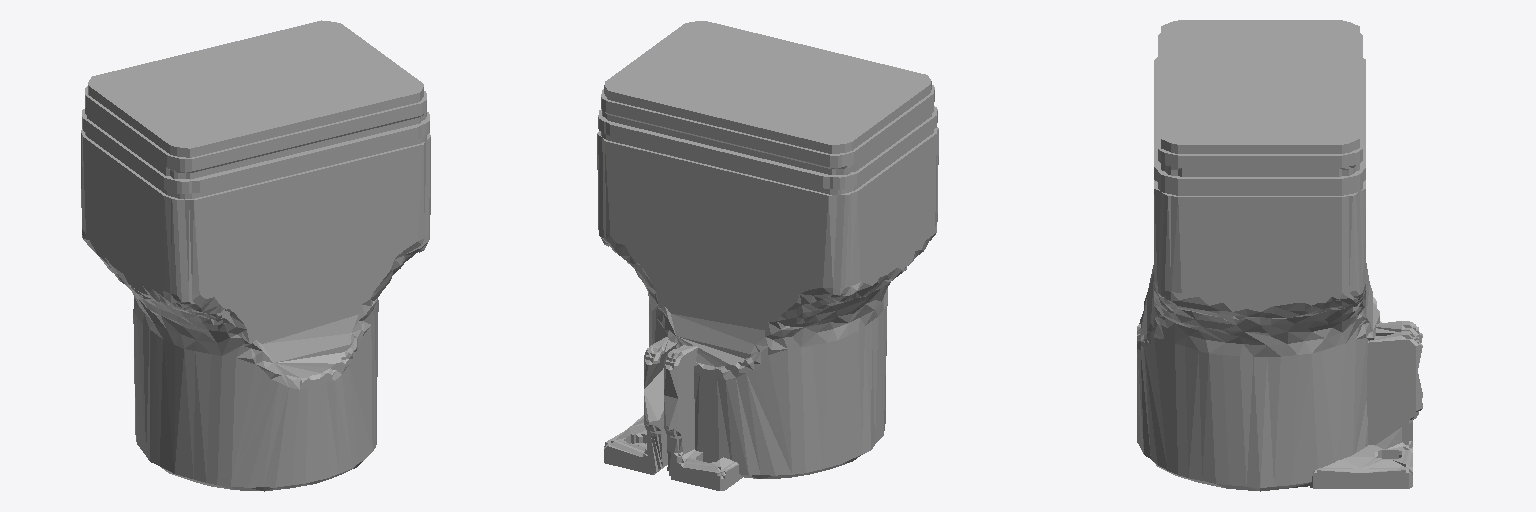
URDF robot description (iiwa14):
<?xml version="1.0" ?>
<!-- =================================================================================== -->
<!-- |    This document was autogenerated by xacro from urdf/iiwa14.urdf.xacro         | -->
<!-- |    EDITING THIS FILE BY HAND IS NOT RECOMMENDED                                 | -->
<!-- =================================================================================== -->
<robot name="iiwa14">
  <link name="link_0">
    <inertial>
      <origin rpy="0 0 0" xyz="-0.1 0 0.07"/>
      <mass value="5"/>
      <inertia ixx="0.05" ixy="0" ixz="0" iyy="0.06" iyz="0" izz="0.03"/>
    </inertial>
    <visual>
      <origin rpy="0 0 0" xyz="0 0 0"/>
      <geometry>
        <mesh filename="meshes/visual/link_0.stl"/>
      </geometry>
      <material name="Grey"/>
    </visual>
    <collision>
      <origin rpy="0 0 0" xyz="0 0 0"/>
      <geometry>
        <mesh filename="meshes/collision/link_0_s.stl"/>
      </geometry>
      <material name="Grey"/>
    </collision>
    <self_collision_checking>
      <origin rpy="0 0 0" xyz="0 0 0"/>
      <geometry>
        <capsule length="0.25" radius="0.15"/>
      </geometry>
    </self_collision_checking>
  </link>
  <!-- joint between link_0 and link_1 -->
  <joint name="joint_0" type="revolute">
    <parent link="link_0"/>
    <child link="link_1"/>
    <origin rpy="0 0 0" xyz="0 0 0.17"/>
    <axis xyz="0 0 1"/>
    <limit effort="300" lower="-2.9670597283903604" upper="2.9670597283903604" velocity="10"/>
    <safety_controller k_position="100" k_velocity="2" soft_lower_limit="-2.9321531433504737" soft_upper_limit="2.9321531433504737"/>
    <dynamics damping="0.0" friction="0.0"/>
  </joint>
  <link name="link_1">
    <inertial>
      <origin rpy="0 0 0" xyz="0 -0.03 0.12"/>
      <mass value="4"/>
      <inertia ixx="0.1" ixy="0" ixz="0" iyy="0.09" iyz="0" izz="0.02"/>
    </inertial>
    <visual>
      <origin rpy="0 0 0" xyz="0 0 0"/>
      <geometry>
        <mesh filename="meshes/visual/link_1.stl"/>
      </geometry>
      <material name="Orange"/>
    </visual>
    <collision>
      <origin rpy="0 0 0" xyz="0 0 0"/>
      <geometry>
        <mesh filename="meshes/collision/link_1_s.stl"/>
      </geometry>
      <material name="Orange"/>
    </collision>
  </link>
  <!-- joint between link_1 and link_2 -->
  <joint name="joint_1" type="revolute">
    <parent link="link_1"/>
    <child link="link_2"/>
    <origin rpy="1.5707963267948966   0 3.141592653589793" xyz="0 0 0.2025"/>
    <axis xyz="0 0 1"/>
    <limit effort="300" lower="-2.0943951023931953" upper="2.0943951023931953" velocity="10"/>
    <safety_controller k_position="100" k_velocity="2" soft_lower_limit="-2.0594885173533086" soft_upper_limit="2.0594885173533086"/>
    <dynamics damping="0.0" friction="0.0"/>
  </joint>
  <link name="link_2">
    <inertial>
      <origin rpy="0 0 0" xyz="0.0003 0.059 0.042"/>
      <mass value="4"/>
      <inertia ixx="0.05" ixy="0" ixz="0" iyy="0.018" iyz="0" izz="0.044"/>
    </inertial>
    <visual>
      <origin rpy="0 0 0" xyz="0 0 0"/>
      <geometry>
        <mesh filename="meshes/visual/link_2.stl"/>
      </geometry>
      <material name="Orange"/>
    </visual>
    <collision>
      <origin rpy="0 0 0" xyz="0 0 0"/>
      <geometry>
        <mesh filename="meshes/collision/link_2_s.stl"/>
      </geometry>
      <material name="Orange"/>
    </collision>
  </link>
  <!-- joint between link_2 and link_3 -->
  <joint name="joint_2" type="revolute">
    <parent link="link_2"/>
    <child link="link_3"/>
    <origin rpy="1.5707963267948966 0 3.141592653589793" xyz="0 0.2045 0"/>
    <axis xyz="0 0 1"/>
    <limit effort="300" lower="-2.9670597283903604" upper="2.9670597283903604" velocity="10"/>
    <safety_controller k_position="100" k_velocity="2" soft_lower_limit="-2.9321531433504737" soft_upper_limit="2.9321531433504737"/>
    <dynamics damping="0.0" friction="0.0"/>
  </joint>
  <link name="link_3">
    <inertial>
      <origin rpy="0 0 0" xyz="0 0.03 0.13"/>
      <mass value="3"/>
      <inertia ixx="0.08" ixy="0" ixz="0" iyy="0.075" iyz="0" izz="0.01"/>
    </inertial>
    <visual>
      <origin rpy="0 0 0" xyz="0 0 0"/>
      <geometry>
        <mesh filename="meshes/visual/link_3.stl"/>
      </geometry>
      <material name="Orange"/>
    </visual>
    <collision>
      <origin rpy="0 0 0" xyz="0 0 0"/>
      <geometry>
        <mesh filename="meshes/collision/link_3_s.stl"/>
      </geometry>
      <material name="Orange"/>
    </collision>
  </link>
  <!-- joint between link_3 and link_4 -->
  <joint name="joint_3" type="revolute">
    <parent link="link_3"/>
    <child link="link_4"/>
    <origin rpy="1.5707963267948966 0 0" xyz="0 0 0.2155"/>
    <axis xyz="0 0 1"/>
    <limit effort="300" lower="-2.0943951023931953" upper="2.0943951023931953" velocity="10"/>
    <safety_controller k_position="100" k_velocity="2" soft_lower_limit="-2.0594885173533086" soft_upper_limit="2.0594885173533086"/>
    <dynamics damping="0.0" friction="0.0"/>
  </joint>
  <link name="link_4">
    <inertial>
      <origin rpy="0 0 0" xyz="0 0.067 0.034"/>
      <mass value="2.7"/>
      <inertia ixx="0.03" ixy="0" ixz="0" iyy="0.01" iyz="0" izz="0.029"/>
    </inertial>
    <visual>
      <origin rpy="0 0 0" xyz="0 0 0"/>
      <geometry>
        <mesh filename="meshes/visual/link_4.stl"/>
      </geometry>
      <material name="Orange"/>
    </visual>
    <collision>
      <origin rpy="0 0 0" xyz="0 0 0"/>
      <geometry>
        <mesh filename="meshes/collision/link_4_s.stl"/>
      </geometry>
      <material name="Orange"/>
    </collision>
  </link>
  <!-- joint between link_4 and link_5 -->
  <joint name="joint_4" type="revolute">
    <parent link="link_4"/>
    <child link="link_5"/>
    <origin rpy="-1.5707963267948966 3.141592653589793 0" xyz="0 0.1845 0"/>
    <axis xyz="0 0 1"/>
    <limit effort="300" lower="-2.9670597283903604" upper="2.9670597283903604" velocity="10"/>
    <safety_controller k_position="100" k_velocity="2" soft_lower_limit="-2.9321531433504737" soft_upper_limit="2.9321531433504737"/>
    <dynamics damping="0.0" friction="0.0"/>
  </joint>
  <link name="link_5">
    <inertial>
      <origin rpy="0 0 0" xyz="0.0001 0.021 0.076"/>
      <mass value="1.7"/>
      <inertia ixx="0.02" ixy="0" ixz="0" iyy="0.018" iyz="0" izz="0.005"/>
    </inertial>
    <visual>
      <origin rpy="0 0 0" xyz="0 0 0"/>
      <geometry>
        <mesh filename="meshes/visual/link_5.stl"/>
      </geometry>
      <material name="Orange"/>
    </visual>
    <collision>
      <origin rpy="0 0 0" xyz="0 0 0"/>
      <geometry>
        <mesh filename="meshes/collision/link_5_s.stl"/>
      </geometry>
      <material name="Orange"/>
    </collision>
  </link>
  <!-- joint between link_5 and link_6 -->
  <joint name="joint_5" type="revolute">
    <parent link="link_5"/>
    <child link="link_6"/>
    <origin rpy="1.5707963267948966 0 0" xyz="0 0 0.2155"/>
    <axis xyz="0 0 1"/>
    <limit effort="300" lower="-2.0943951023931953" upper="2.0943951023931953" velocity="10"/>
    <safety_controller k_position="100" k_velocity="2" soft_lower_limit="-2.0594885173533086" soft_upper_limit="2.0594885173533086"/>
    <dynamics damping="0.0" friction="0.0"/>
  </joint>
  <link name="link_6">
    <inertial>
      <origin rpy="0 0 0" xyz="0 0.0006 0.0004"/>
      <mass value="1.8"/>
      <inertia ixx="0.025" ixy="0" ixz="0" iyy="0.0136" iyz="0" izz="0.0247"/>
    </inertial>
    <visual>
      <origin rpy="0 0 0" xyz="0 0 0"/>
      <geometry>
        <mesh filename="meshes/visual/link_6.stl"/>
      </geometry>
      <material name="Orange"/>
    </visual>
    <collision>
      <origin rpy="0 0 0" xyz="0 0 0"/>
      <geometry>
        <mesh filename="meshes/collision/link_6_s.stl"/>
      </geometry>
      <material name="Orange"/>
    </collision>
  </link>
  <!-- joint between link_6 and link_7 -->
  <joint name="joint_6" type="revolute">
    <parent link="link_6"/>
    <child link="link_7"/>
    <origin rpy="-1.5707963267948966 3.141592653589793 0" xyz="0 0.081 0"/>
    <axis xyz="0 0 1"/>
    <limit effort="300" lower="-3.0543261909900763" upper="3.0543261909900763" velocity="10"/>
    <safety_controller k_position="100" k_velocity="2" soft_lower_limit="-3.01941960595019" soft_upper_limit="3.01941960595019"/>
    <dynamics damping="0.0" friction="0.0"/>
  </joint>
  <link name="link_7">
    <inertial>
      <origin rpy="0 0 0" xyz="0 0 0.02"/>
      <mass value="0.42857142857142855"/>
      <inertia ixx="0.01" ixy="0" ixz="0" iyy="0.01" iyz="0" izz="0.01"/>
    </inertial>
    <visual>
      <origin rpy="0 0 0" xyz="0 0 0"/>
      <geometry>
        <mesh filename="meshes/visual/link_7.stl"/>
      </geometry>
      <material name="Grey"/>
    </visual>
    <collision>
      <origin rpy="0 0 0" xyz="0 0 0"/>
      <geometry>
        <mesh filename="meshes/collision/link_7_s.stl"/>
      </geometry>
      <material name="Grey"/>
    </collision>
  </link>
  <joint name="joint_ee" type="fixed">
    <parent link="link_7"/>
    <child link="gripper_base_link"/>
    <origin rpy="0 0 0" xyz="0 0 0.045"/>
  </joint>

  <material name="silver">
    <color rgba="0.700 0.700 0.700 1.000"/>
  </material>
  <link name="gripper_base_link">
    <inertial>
      <origin rpy="0 0 0" xyz="-4.898915958379213e-05 2.84756960271082e-06 0.06811082379774974"/>
      <mass value="1.2646523179240972"/>
      <inertia ixx="0.001504" ixy="-0.0" ixz="-3e-06" iyy="0.001812" iyz="0.0" izz="0.001053"/>
    </inertial>
    <visual>
      <origin rpy="0 0 0" xyz="0 0 0"/>
      <geometry>
        <mesh filename="meshes/gripper_base_link.stl"/>
      </geometry>
      <material name="silver"/>
    </visual>
    <collision>
      <origin rpy="0 0 0" xyz="0 0 0"/>
      <geometry>
        <mesh filename="meshes/gripper_base_link.stl"/>
      </geometry>
    </collision>
  </link>
  <link name="right_finger_link">
    <inertial>
      <origin rpy="0 0 0" xyz="0.017874296677847158 0.02949104051991925 0.01523421548622829"/>
      <mass value="0.023219383355922288"/>
      <inertia ixx="6e-06" ixy="-0.0" ixz="1e-06" iyy="5e-06" iyz="-0.0" izz="2e-06"/>
    </inertial>
    <visual>
      <origin rpy="0 0 0" xyz="0.054361 0.029494 -0.12005"/>
      <geometry>
        <mesh filename="meshes/right_finger_link.stl"/>
      </geometry>
      <material name="silver"/>
    </visual>
    <collision name="right_finger_collision">
      <origin rpy="0 0 0" xyz="0.054361 0.029494 -0.12005"/>
      <geometry>
        <mesh filename="meshes/right_finger_link.stl"/>
      </geometry>
    </collision>
  </link>
  <link name="left_finger_link">
    <inertial>
      <origin rpy="0 0 0" xyz="0.004247703322119739 0.029496959480080673 0.015234215486237948"/>
      <mass value="0.023219383355922288"/>
      <inertia ixx="6e-06" ixy="-0.0" ixz="-1e-06" iyy="5e-06" iyz="0.0" izz="2e-06"/>
    </inertial>
    <visual>
      <origin rpy="0 0 0" xyz="-0.032239 0.029494 -0.12005"/>
      <geometry>
        <mesh filename="meshes/left_finger_link.stl"/>
      </geometry>
      <material name="silver"/>
    </visual>
    <collision name="left_finger_collision">
      <origin rpy="0 0 0" xyz="-0.032239 0.029494 -0.12005"/>
      <geometry>
        <mesh filename="meshes/left_finger_link.stl"/>
      </geometry>
    </collision>
  </link>
  <joint name="left_finger_joint" type="prismatic">
    <origin rpy="0 0 0" xyz="0.032239 0.0 0.12005"/>
    <parent link="gripper_base_link"/>
    <child link="left_finger_link"/>
    <axis xyz="-1.0 0.0 0.0"/>
    <limit effort="140" lower="0.0" upper="0.019" velocity="0.45"/>
  </joint>
  <joint name="right_finger_joint" type="prismatic">
    <origin rpy="0 0 0" xyz="-0.032239 0.0 0.12005"/>
    <parent link="gripper_base_link"/>
    <child link="right_finger_link"/>
    <axis xyz="1.0 0.0 0.0"/>
    <limit effort="140" lower="-0.019" upper="0.019" velocity="0.45"/>
    <mimic joint="left_finger_joint" multiplier="1.0"/>
  </joint>

</robot>

--- What the picture shows (computed from the rendered views, not written in the file) ---
Views: 3 orthographic renders of the robot side by side, from view 1: azimuth 30°, elevation 25°; view 2: azimuth 150°, elevation 25°; view 3: azimuth 270°, elevation 25°.
Robot: iiwa14 — 11 links, 10 joints (7 revolute, 2 prismatic, 1 fixed); root link link_0; default pose: every joint at zero.
Links seen in each view (by area): view 1: gripper_base_link; view 2: gripper_base_link, left_finger_link, right_finger_link; view 3: gripper_base_link, right_finger_link, left_finger_link.
Link boxes in pixels (bbox=[...]): gripper_base_link: bbox=[81, 20, 430, 491]; gripper_base_link: bbox=[597, 21, 938, 478]; left_finger_link: bbox=[664, 345, 742, 490]; right_finger_link: bbox=[604, 337, 677, 474]; gripper_base_link: bbox=[1137, 20, 1381, 491]; right_finger_link: bbox=[1310, 331, 1422, 488]; left_finger_link: bbox=[1375, 321, 1422, 398].
Bounding box of the posed robot: 0.09 × 0.0835 × 0.116 m (x, y, z).
Meshes: 11 distinct files referenced, 3 mesh visuals loaded (3 binary STL); not drawn: 8 (reference not matched to a file when rendering).